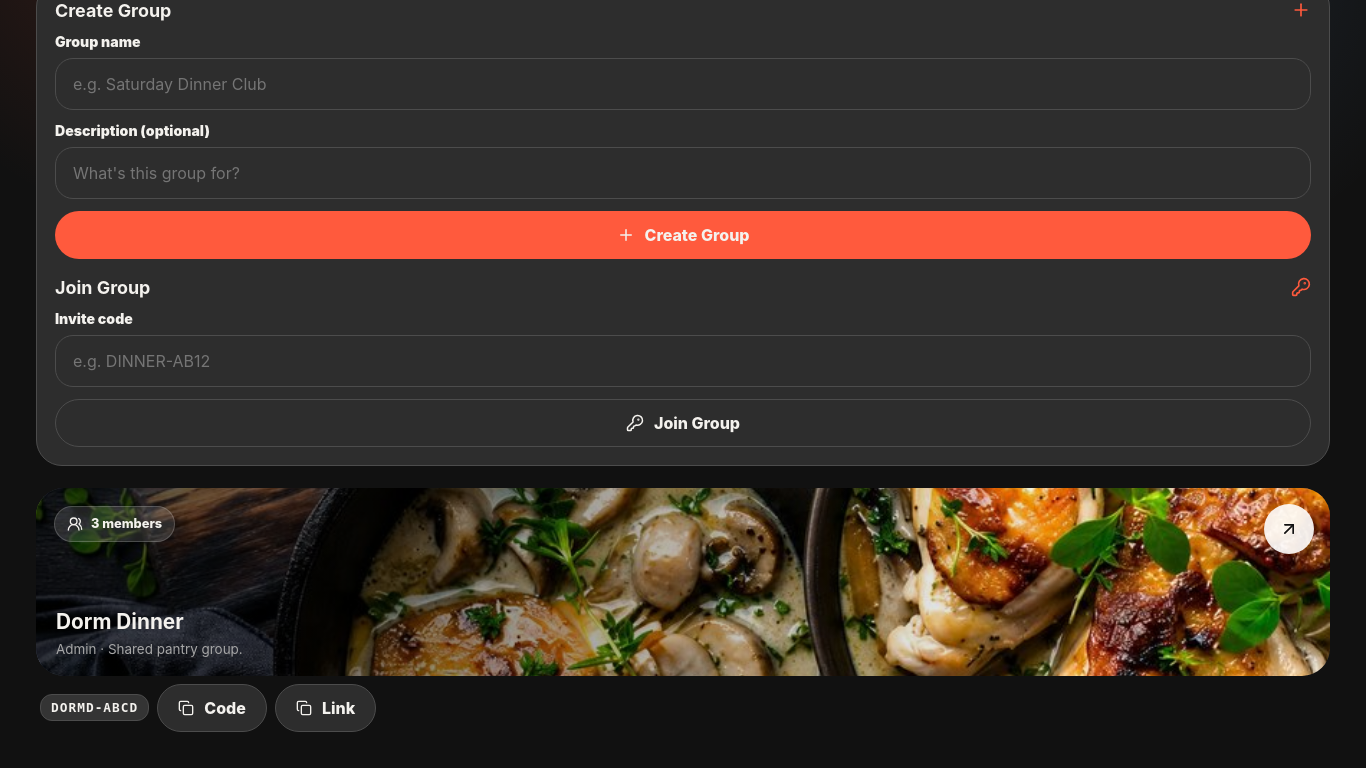
GroupsPage › shows inline group controls and confirms invite code copies
(page scrolled)
Expected: the text "Dorm Dinner" is shown, [56,609,184,634]
Expected: the heading "Create Group" is shown, [55,0,171,21]
Click the button "Code" at [212, 708], box [157,684,267,732]
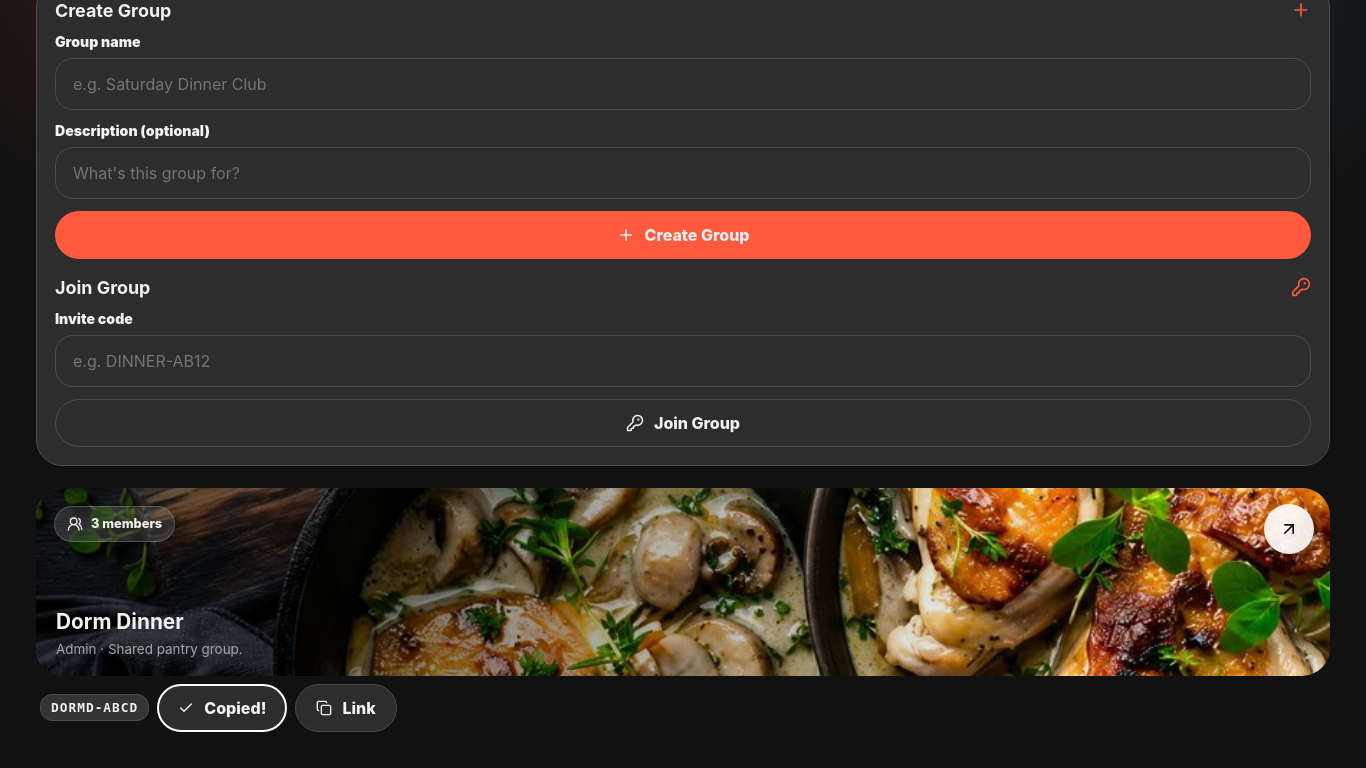
Result: the button "Copied!" is shown at [157,684,287,732]
